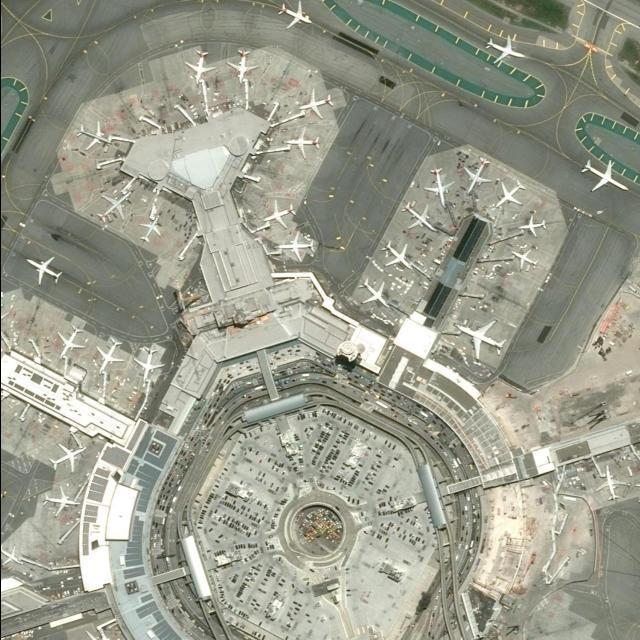Aircraft: (454, 320, 506, 362), (580, 160, 629, 193), (422, 169, 455, 209), (595, 466, 629, 502), (276, 231, 314, 263), (41, 485, 79, 517), (483, 36, 523, 66), (46, 443, 86, 473), (131, 347, 164, 383), (95, 192, 131, 224), (462, 157, 492, 195), (74, 121, 112, 151), (94, 337, 124, 375), (25, 257, 63, 287), (284, 127, 319, 159), (225, 51, 257, 85), (183, 51, 215, 85), (400, 203, 436, 233), (299, 89, 333, 120), (357, 279, 390, 309), (55, 325, 84, 359), (494, 180, 526, 210), (379, 241, 411, 271), (277, 2, 311, 30), (263, 201, 295, 229), (138, 215, 160, 244), (510, 249, 538, 271), (518, 216, 546, 238), (1, 543, 23, 567), (73, 631, 111, 640)
